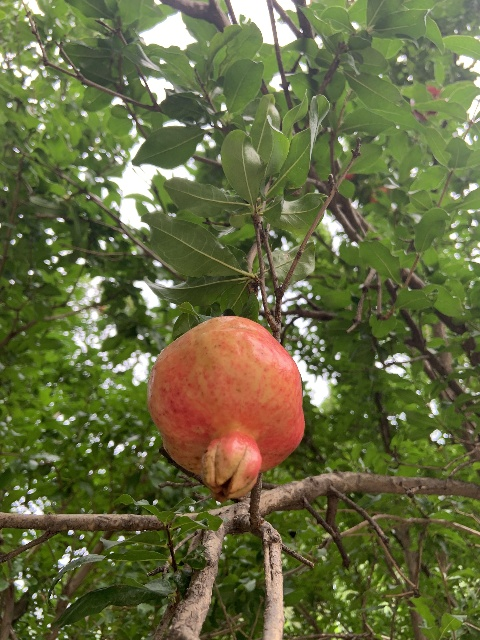ripe: (146, 315, 306, 503)
